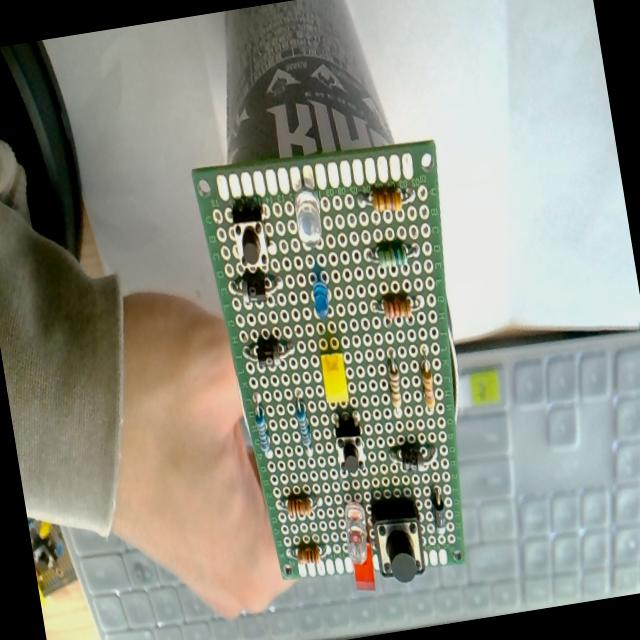diode: (224, 266, 289, 308), (238, 329, 302, 371), (388, 432, 451, 472), (424, 470, 454, 541)
led: (284, 182, 336, 245), (337, 489, 375, 568), (316, 348, 354, 401), (305, 276, 343, 326)
resistor: (355, 228, 425, 274), (348, 180, 422, 220), (364, 284, 428, 327), (409, 344, 446, 418), (290, 392, 319, 459), (281, 533, 335, 568), (274, 486, 329, 520), (379, 354, 408, 417), (251, 400, 275, 454)
switch: (364, 489, 435, 598), (226, 205, 278, 272), (328, 417, 373, 481)
